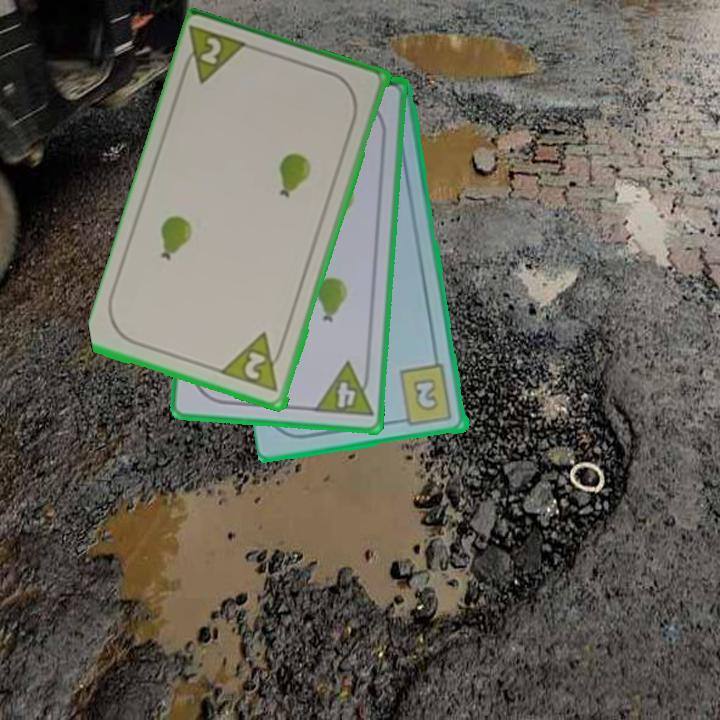2b: (394, 361, 456, 429)
2p: (176, 23, 254, 88), (219, 329, 290, 396)
4p: (310, 359, 376, 420)
